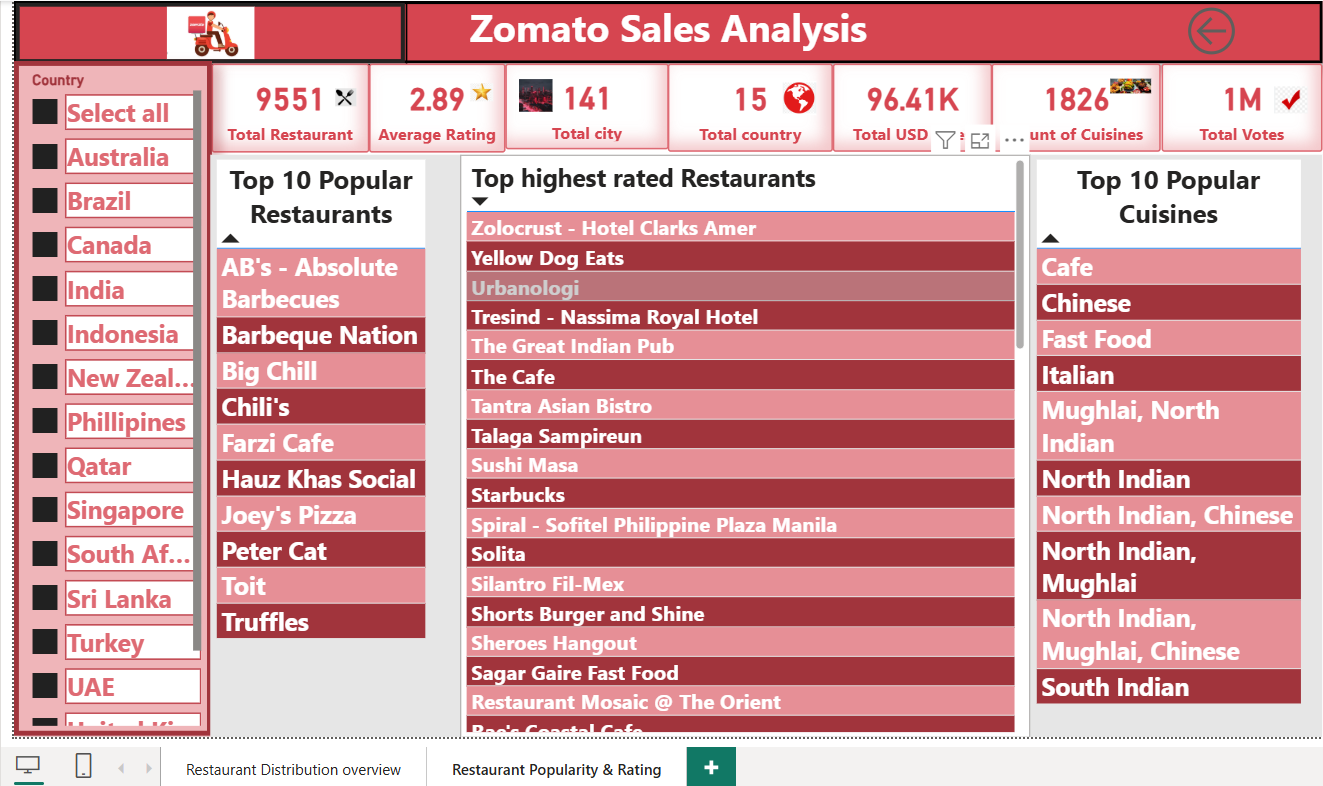

Layout of this report page (visuals, bound fields, positions):
{"tool":"powerbi","page":{"name":"Restaurant Popularity & Rating","canvas":[1280,720],"ordinal":1},"visuals":[{"type":"shape","box":[0,0,1280.3,61.1],"z":0},{"type":"image","box":[0,0,385.2,63.6],"z":1000},{"type":"card","fields":{"Values":["CountNonNull(MAIN AFTER MERGING.RestaurantID)"]},"box":[193.2,61.1,154.1,86.8],"z":2000},{"type":"card","fields":{"Values":["Avg(MAIN AFTER MERGING.Rating)"]},"box":[347.3,61.1,133.3,86.8],"z":3000},{"type":"card","fields":{"Values":["Count(MAIN AFTER MERGING.country name)"]},"box":[639.1,60.6,161.6,86.6],"z":4000},{"type":"card","fields":{"Values":["Count(MAIN AFTER MERGING.City)"]},"box":[480.6,61.1,160.2,84.4],"z":5000},{"type":"card","fields":{"Values":["Count(MAIN AFTER MERGING.Cuisines)"]},"box":[956.6,60.6,165.9,86.6],"z":6000},{"type":"card","fields":{"Values":["Sum(MAIN AFTER MERGING.Votes)"]},"box":[1122.5,60.6,157.3,86.6],"z":7000},{"type":"image","box":[314.3,73.4,20.8,41.6],"z":8000},{"type":"image","box":[1232.1,79.4,33.2,34.6],"z":9000},{"type":"image","box":[446.3,70.9,22,36.7],"z":10000},{"type":"image","box":[751.7,70.7,33.2,47.6],"z":11000},{"type":"image","box":[493.4,63.5,33.2,57.7],"z":12000},{"type":"image","box":[1072.4,62.4,40.4,41.6],"z":13000},{"type":"card","fields":{"Values":["MAIN AFTER MERGING.total usd rate"]},"box":[800.7,60.6,155.8,86.6],"z":14000},{"type":"slicer","fields":{"Values":["MAIN AFTER MERGING.country name"]},"box":[0,58.7,193.2,660.3],"z":15000},{"type":"actionButton","title":"zomato login","box":[1142.1,0,138.2,58.7],"z":16000},{"type":"tableEx","fields":{"Values":["MAIN AFTER MERGING.RestaurantName"]},"box":[191.9,150,245.3,569.9],"z":17000},{"type":"tableEx","fields":{"Values":["MAIN AFTER MERGING.Cuisines"]},"box":[994.1,150,285.7,569.9],"z":18000},{"type":"tableEx","fields":{"Values":["MAIN AFTER MERGING.RestaurantName"]},"box":[437.2,150,556.9,569.9],"z":19000}]}

Visuals, with their boxes on the page's 1280x720 design canvas (x1, y1, x2, y2). These are canvas units, not pixel positions in the 1323x786 screenshot, which may show the page scaled, cropped or inside an application window:
shape: box(0, 0, 1280, 61)
image: box(0, 0, 385, 64)
card - CountNonNull(MAIN AFTER MERGING.RestaurantID): box(193, 61, 347, 148)
card - Avg(MAIN AFTER MERGING.Rating): box(347, 61, 481, 148)
card - Count(MAIN AFTER MERGING.country name): box(639, 61, 801, 147)
card - Count(MAIN AFTER MERGING.City): box(481, 61, 641, 146)
card - Count(MAIN AFTER MERGING.Cuisines): box(957, 61, 1122, 147)
card - Sum(MAIN AFTER MERGING.Votes): box(1122, 61, 1280, 147)
image: box(314, 73, 335, 115)
image: box(1232, 79, 1265, 114)
image: box(446, 71, 468, 108)
image: box(752, 71, 785, 118)
image: box(493, 64, 527, 121)
image: box(1072, 62, 1113, 104)
card - MAIN AFTER MERGING.total usd rate: box(801, 61, 956, 147)
slicer - MAIN AFTER MERGING.country name: box(0, 59, 193, 719)
"zomato login" actionButton: box(1142, 0, 1280, 59)
tableEx - MAIN AFTER MERGING.RestaurantName: box(192, 150, 437, 720)
tableEx - MAIN AFTER MERGING.Cuisines: box(994, 150, 1280, 720)
tableEx - MAIN AFTER MERGING.RestaurantName: box(437, 150, 994, 720)
